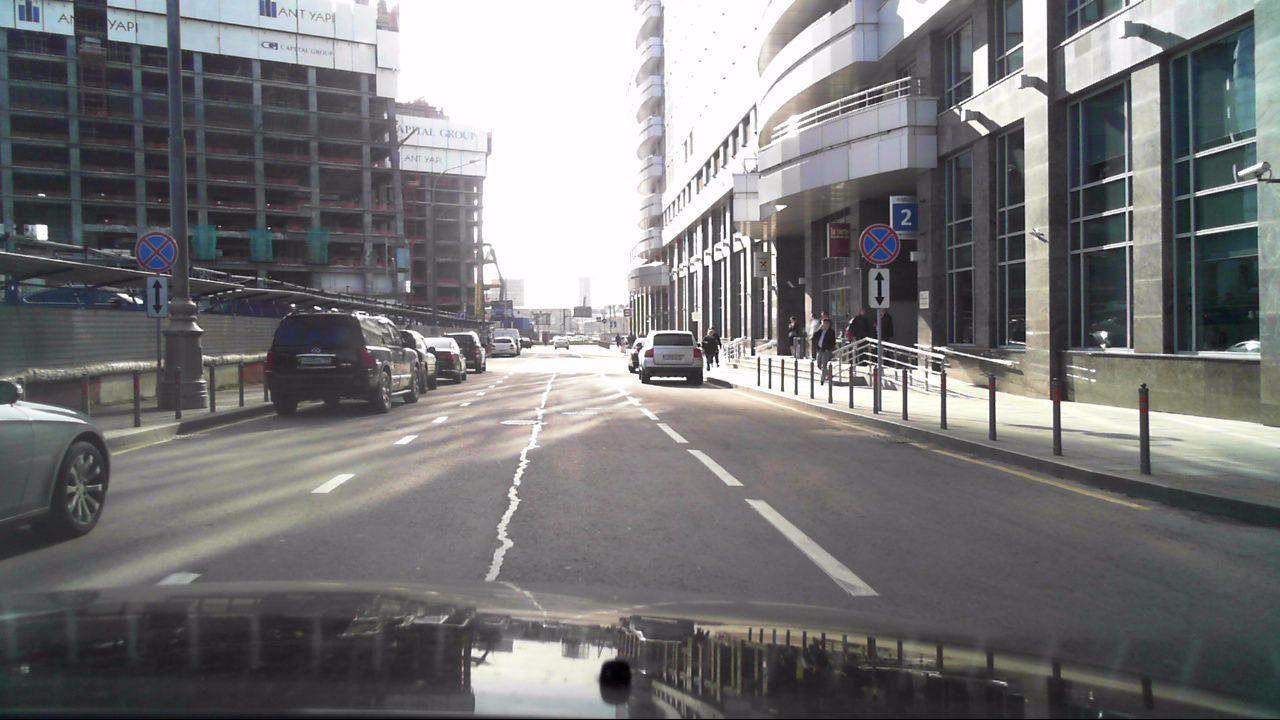3_27: (135, 230, 181, 273), (858, 220, 901, 265)
8_2_4: (868, 269, 893, 310), (146, 275, 169, 317)
